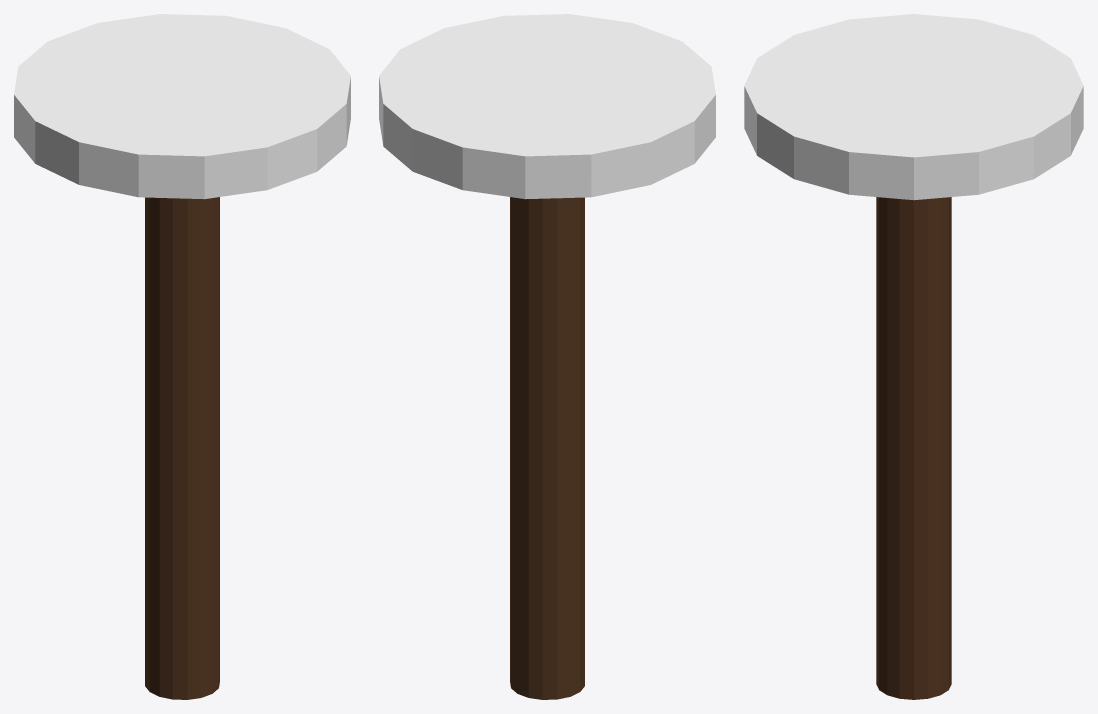
File: taburete.glb
3 views of the same model, side by side, from view 1: azimuth 30°, elevation 25°; view 2: azimuth 150°, elevation 25°; view 3: azimuth 270°, elevation 25° (orthographic).
Parts seen in each view (by area): view 1: taburete; view 2: taburete; view 3: taburete.
Boxes of the visible parts, x1,y1,x2,y2 form: taburete: (14,14,350,699); taburete: (379,14,715,699); taburete: (744,14,1083,699).
Bounding box in the file's own units: 0.36 × 0.7 × 0.36.
